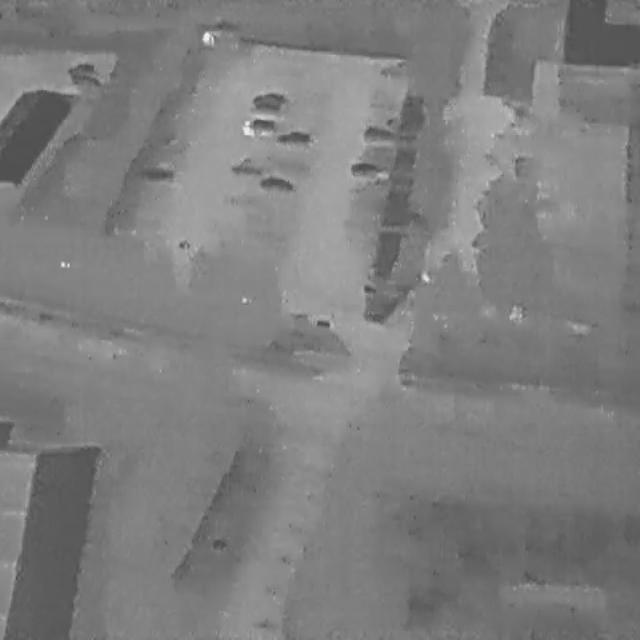Car: (275, 131, 313, 150), (259, 175, 294, 194), (242, 116, 275, 136), (249, 102, 284, 120), (363, 125, 394, 144), (70, 72, 102, 90), (251, 92, 287, 106), (349, 162, 384, 176), (67, 62, 99, 76)
